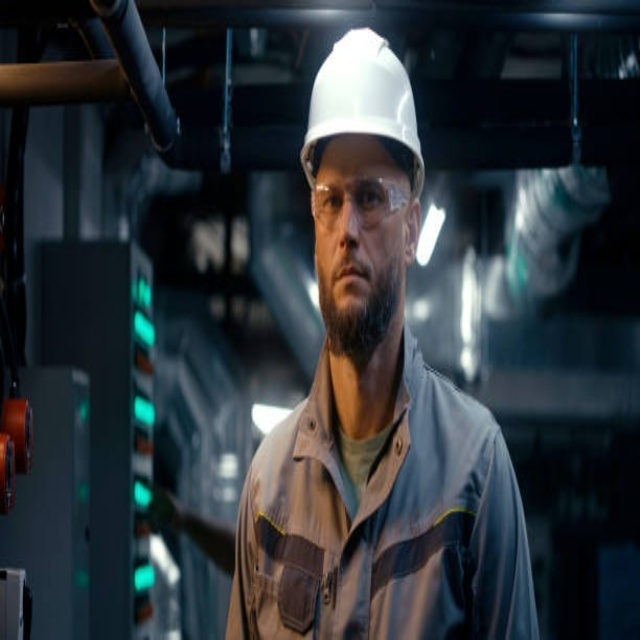Gafas: (310, 177, 411, 228)
Sin_mascara: (327, 254, 373, 325)
